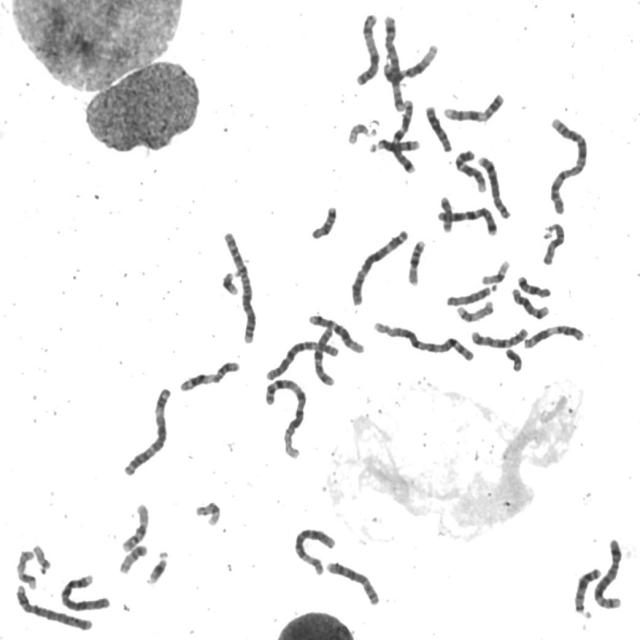A1: (371, 318, 476, 364), (262, 375, 308, 461)
A2: (220, 228, 259, 345), (545, 114, 590, 215)
A3: (348, 226, 410, 307), (121, 383, 173, 478)
B4: (12, 582, 95, 632), (58, 571, 112, 612)
B5: (591, 534, 625, 610), (381, 12, 406, 114)
C10: (310, 322, 338, 388), (468, 324, 530, 349)
C11: (176, 357, 242, 393), (520, 321, 586, 350)
C12: (305, 310, 366, 355), (380, 41, 440, 83)
C6: (262, 337, 340, 382), (291, 525, 337, 576)
C7: (390, 96, 418, 174), (435, 203, 499, 237)
C8: (323, 557, 381, 607), (475, 152, 512, 220)
C9: (441, 90, 506, 124), (452, 146, 488, 194)
D13: (571, 564, 603, 619), (422, 102, 454, 153)
D14: (509, 284, 551, 320), (366, 135, 422, 154)
D15: (539, 220, 567, 266), (444, 284, 496, 308)
E16: (119, 500, 151, 554), (405, 236, 427, 287)
E17: (453, 298, 496, 324), (14, 547, 38, 590)
E18: (308, 203, 338, 240), (515, 272, 552, 300)
F19: (478, 257, 512, 286), (193, 498, 222, 528)
F20: (117, 541, 149, 574), (437, 193, 455, 233)
G21: (144, 549, 170, 586), (219, 267, 241, 297)
G22: (30, 540, 52, 572), (345, 120, 372, 146)
X: (352, 10, 381, 87)
Y: (502, 346, 524, 373)
